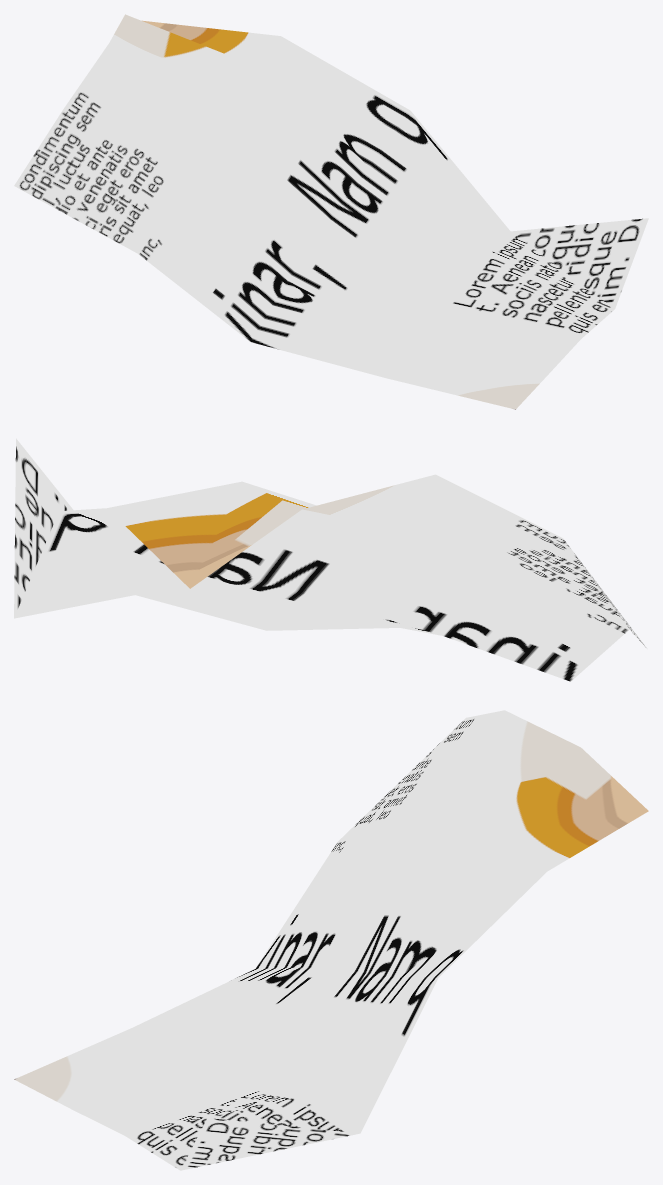
The picture shows the model from 3 angles, top to bottom: view 1: azimuth 30°, elevation 25°; view 2: azimuth 150°, elevation 25°; view 3: azimuth 270°, elevation 25°; orthographic projection. The views are drawn at different scales.
Visible parts, largest first — view 1: Plane.029; view 2: Plane.029; view 3: Plane.029.
Boxes of the visible parts, x1,y1,x2,y2 form: Plane.029: [14, 14, 648, 409]; Plane.029: [14, 438, 647, 681]; Plane.029: [14, 710, 648, 1170].
Size of the model in its own units: 0.945 by 0.4299 by 0.9113.
Materials: 1 (1 with a texture image).
